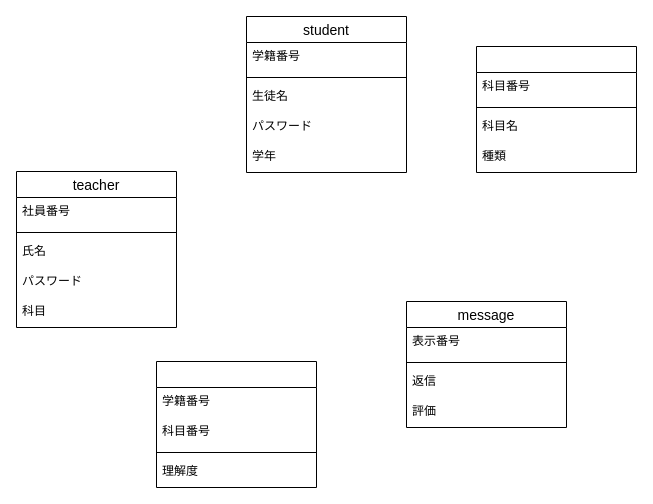
This 653x504 diagram has some shape labels left out. The shapes that lost their labels are listed below. From the top down, each one's box as (x1, y1, x2, y2) in pixels, then its label:
(476, 46, 636, 172): subject
(156, 360, 316, 488): understand
